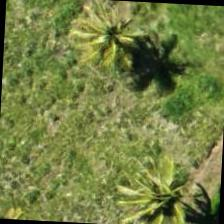Kelapa_Sawit: (69, 0, 164, 81), (108, 151, 203, 223)
